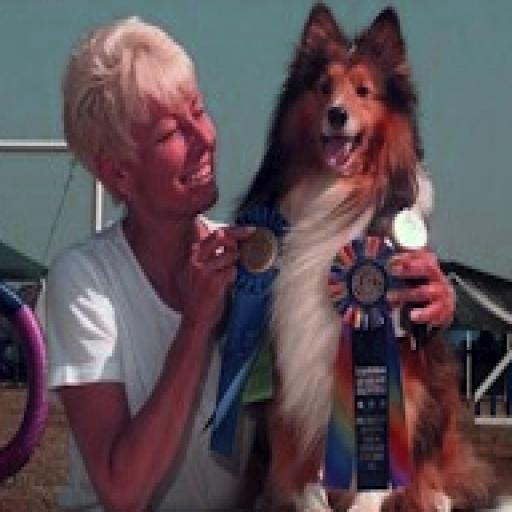dog_face: (273, 0, 420, 198)
